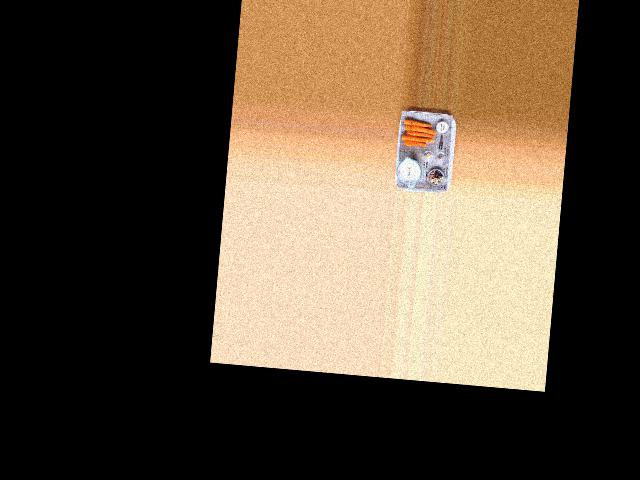carrot: (403, 118, 433, 129)
